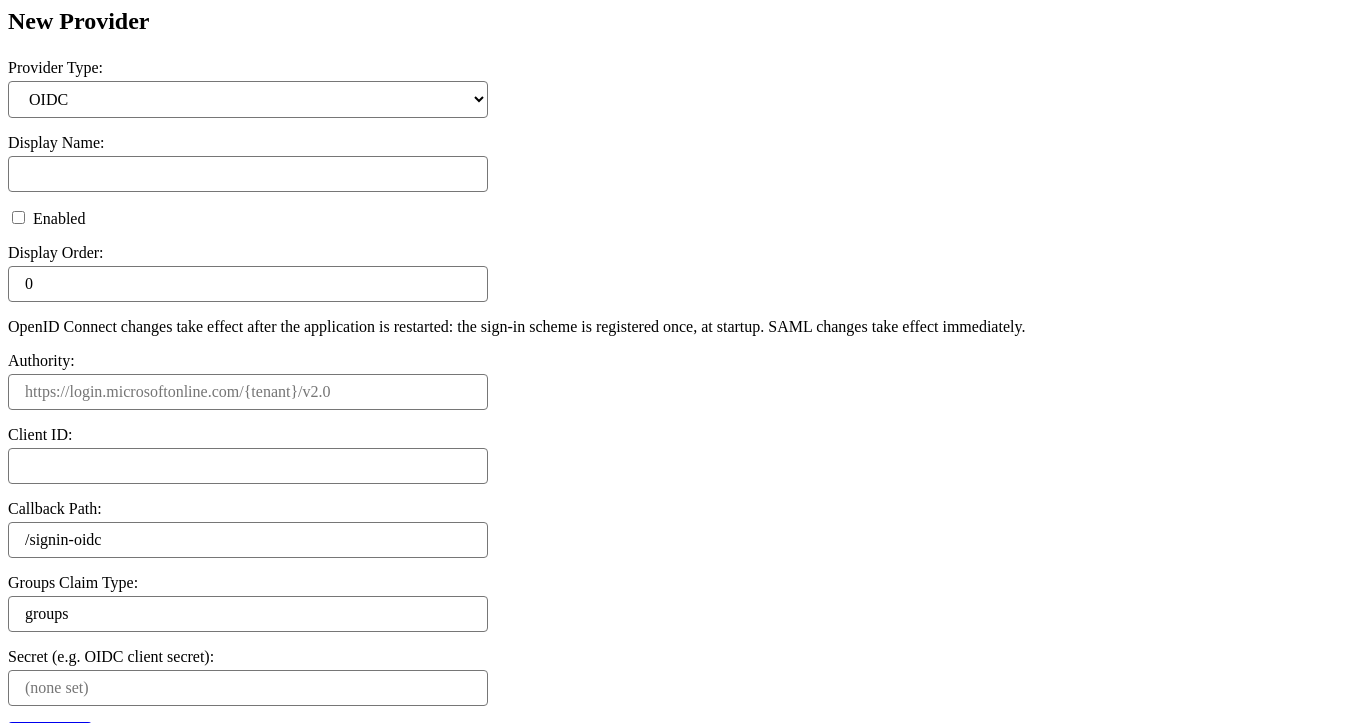
Scenario: Identity provider safeguards › the edit page says OpenID Connect changes need a restart, and SAML ones do not
Check: the text with class "hint" shows "OpenID Connect changes take effect after the application is restarted", box [8,318,1025,335]
Select "SAML" in the dropdown labelled "Provider Type:". click: (248, 100)
box: [8,81,488,118]
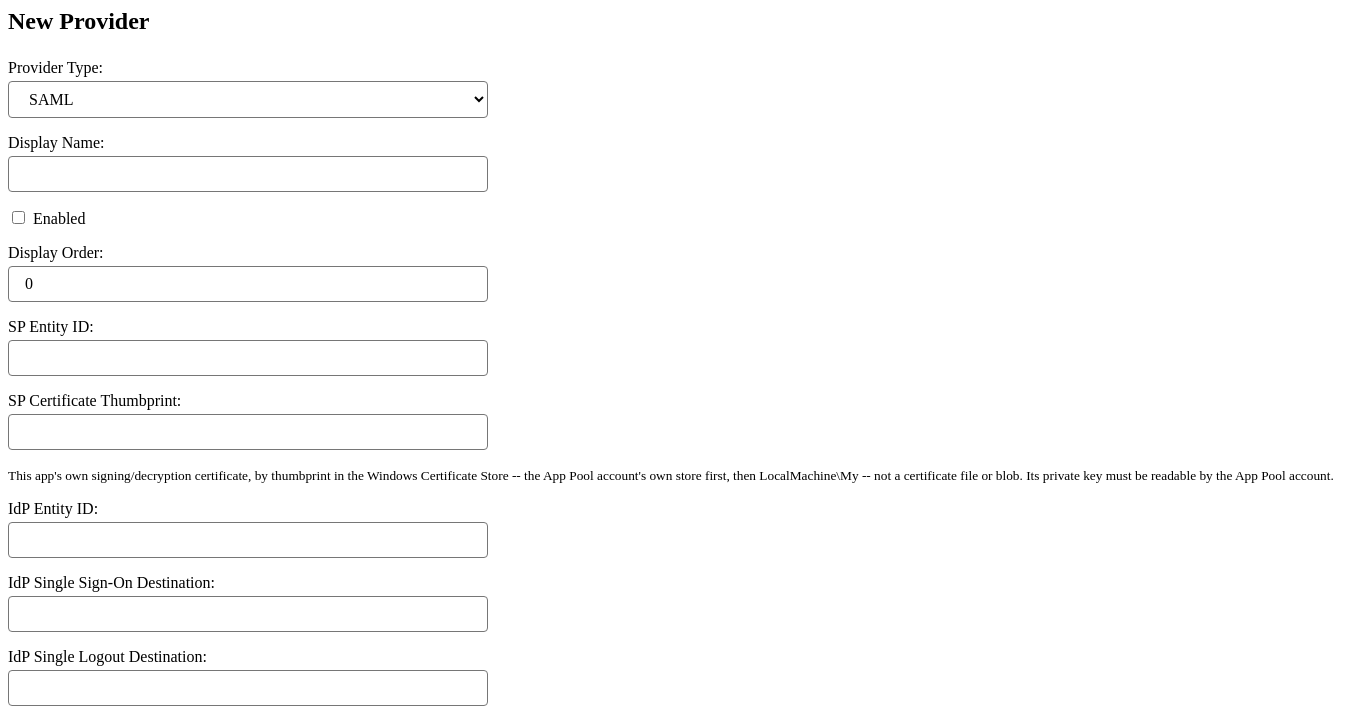
Check: the text "take effect after the application is restarted" is gone
